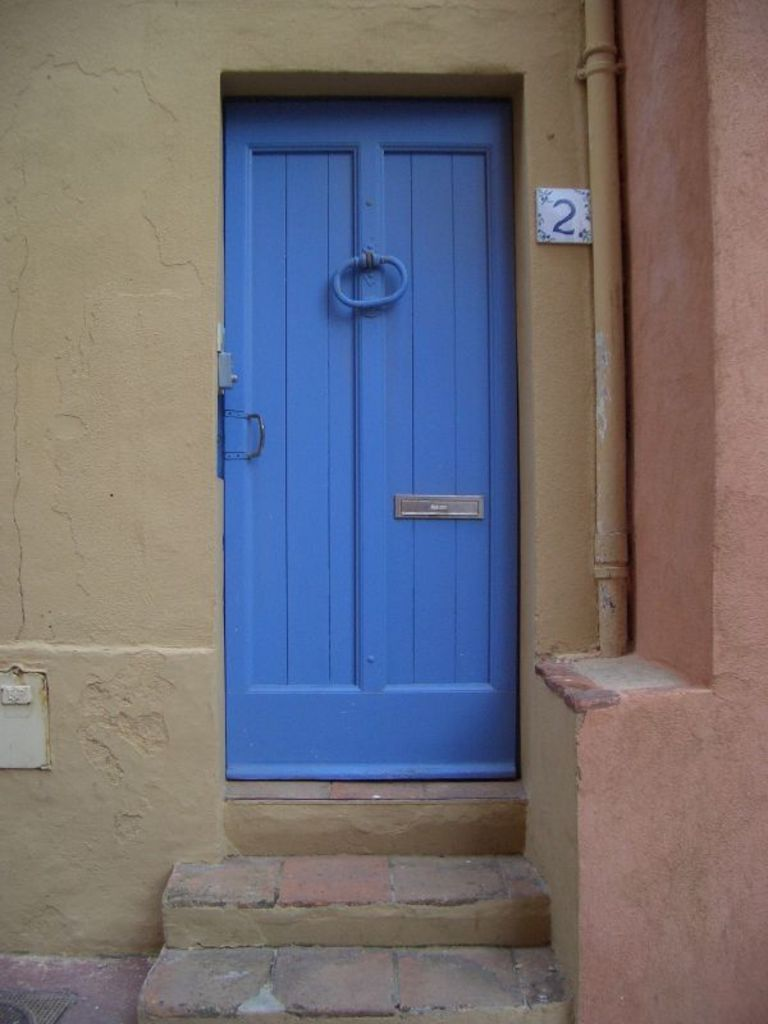door: (229, 118, 515, 775)
handle: (247, 400, 268, 478)
